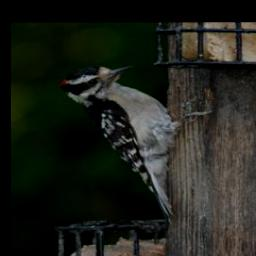Woodpecker: (61, 65, 212, 224)
